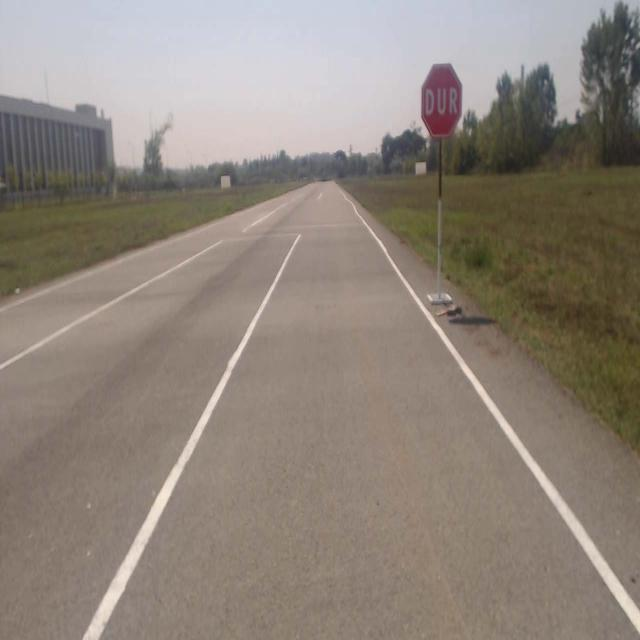dur: (421, 64, 462, 137)
